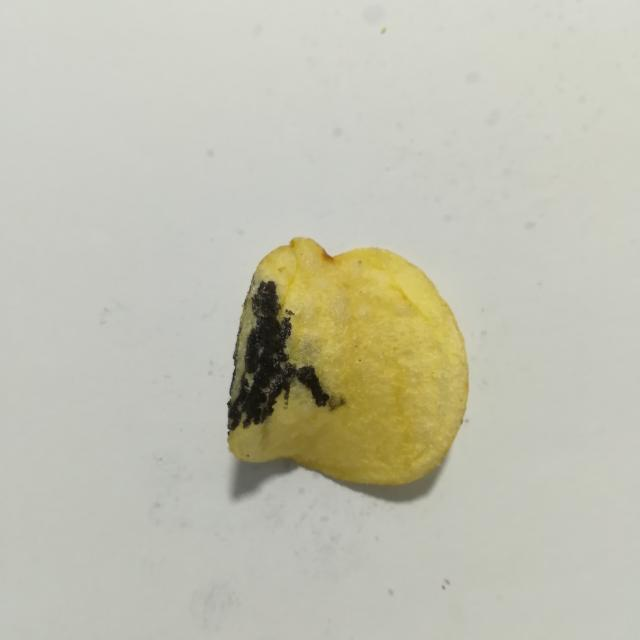chip: (228, 238, 468, 485)
damaged: (228, 280, 330, 431)
